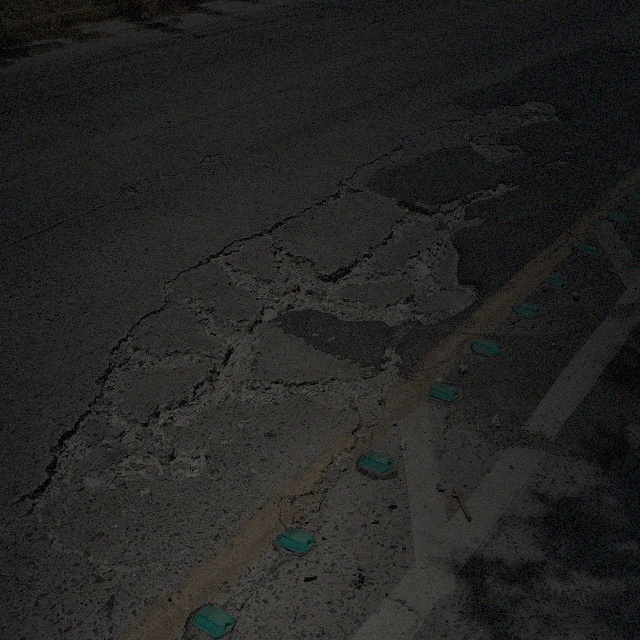pothole: (230, 245, 368, 330), (201, 310, 269, 422), (112, 403, 198, 482), (328, 339, 410, 419), (399, 237, 444, 306), (389, 196, 439, 247), (515, 96, 572, 124)
